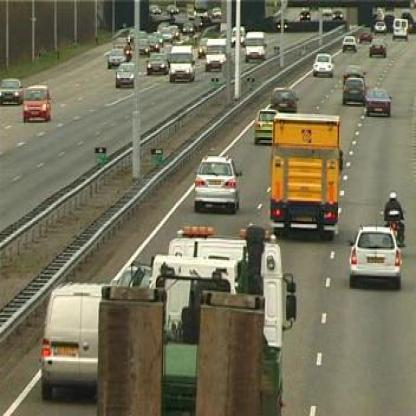other: (261, 103, 350, 224), (166, 30, 270, 72), (17, 85, 60, 121), (378, 183, 407, 230), (176, 216, 218, 243)
